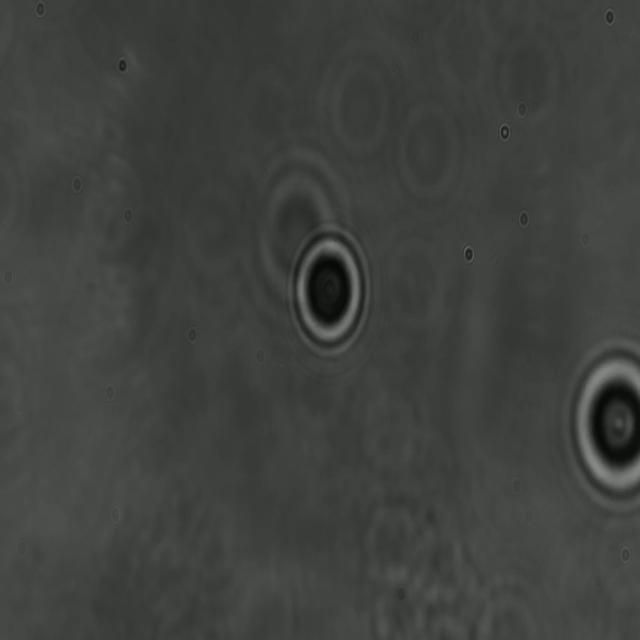DCELL: (286, 215, 374, 362)
